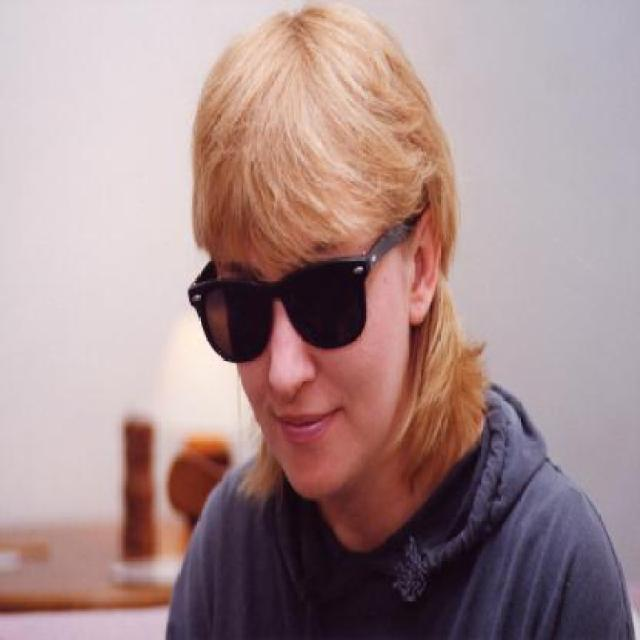face_nomask: (188, 261, 377, 459)
glasses: (188, 222, 428, 367)
head_nohelmet: (190, 4, 444, 264)
